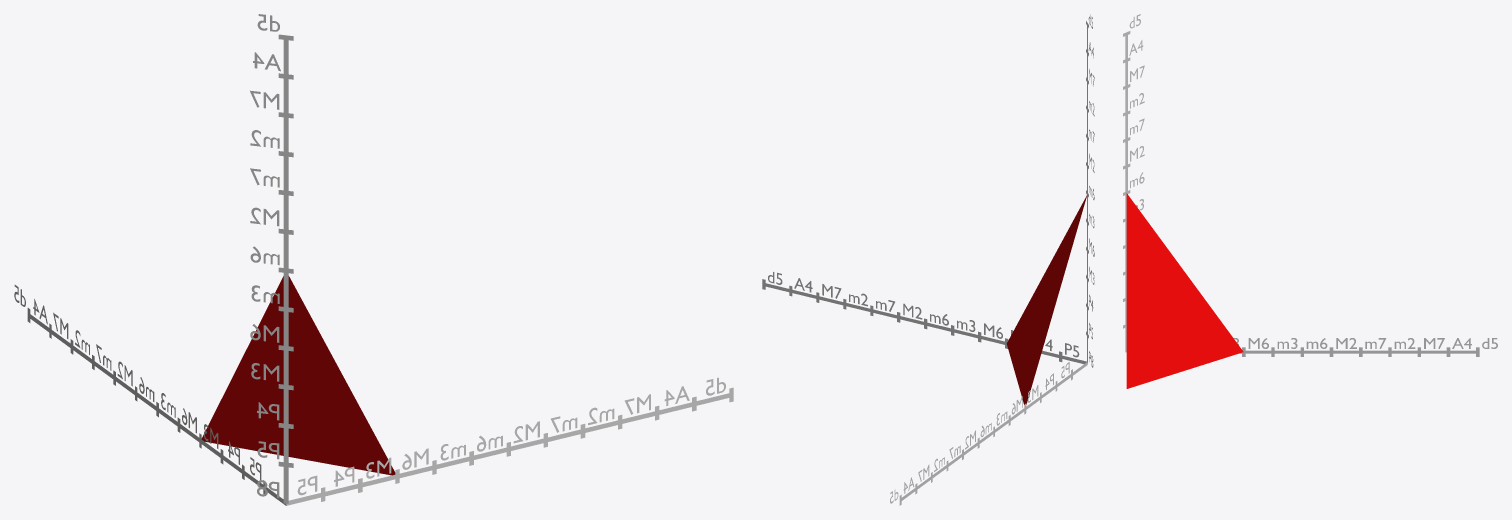
File: FinalBeatAlto.glb
3 views of the same model, side by side, from view 1: azimuth 30°, elevation 25°; view 2: azimuth 150°, elevation 25°; view 3: azimuth 270°, elevation 25° (orthographic). The views are drawn at different scales.
Parts seen in each view (by area): view 1: intervals, z axis, x axis, y axis; view 2: intervals, x axis, y axis, z axis; view 3: intervals, y axis, z axis.
Boxes of the visible parts, x1,y1,x2,y2 form: intervals: (201, 276, 395, 475); z axis: (278, 34, 293, 503); x axis: (286, 387, 733, 505); y axis: (27, 308, 286, 505); intervals: (1006, 195, 1087, 404); x axis: (762, 279, 1086, 363); y axis: (899, 362, 1087, 505); z axis: (1086, 21, 1088, 363); intervals: (1126, 193, 1243, 388); y axis: (1239, 347, 1479, 356); z axis: (1123, 31, 1130, 352).
Size of the model in its own units: 1.06 by 1.06 by 1.07.
